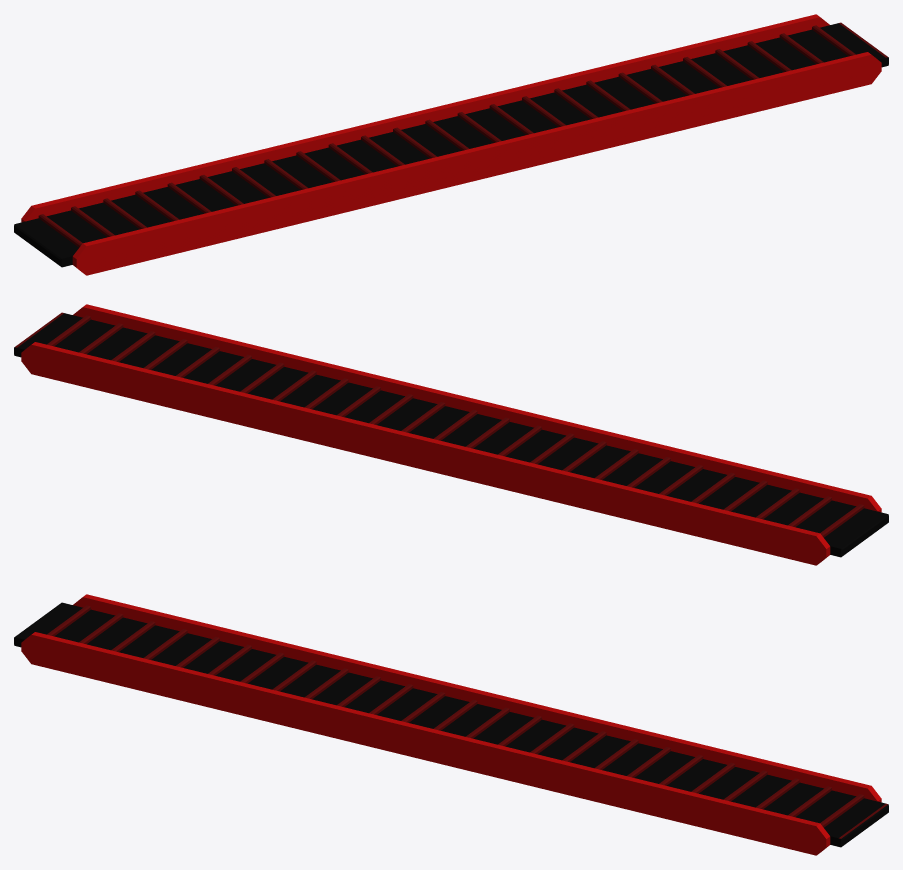
Rendered from ConveyerBelt.fbx.
3 views of the same model, one above another, from view 1: azimuth 30°, elevation 25°; view 2: azimuth 150°, elevation 25°; view 3: azimuth 330°, elevation 25° (orthographic).
Visible parts, largest first — view 1: ConveyerBelt_Bars, ConveyerBelt; view 2: ConveyerBelt_Bars, ConveyerBelt; view 3: ConveyerBelt_Bars, ConveyerBelt.
Boxes of the visible parts, x1,y1,x2,y2 form: ConveyerBelt_Bars: (21,14,881,275); ConveyerBelt: (14,22,888,267); ConveyerBelt_Bars: (21,304,881,565); ConveyerBelt: (14,312,888,557); ConveyerBelt_Bars: (21,594,881,855); ConveyerBelt: (14,602,888,847).
Size of the model in its own units: 121 by 4.12 by 13.98.
